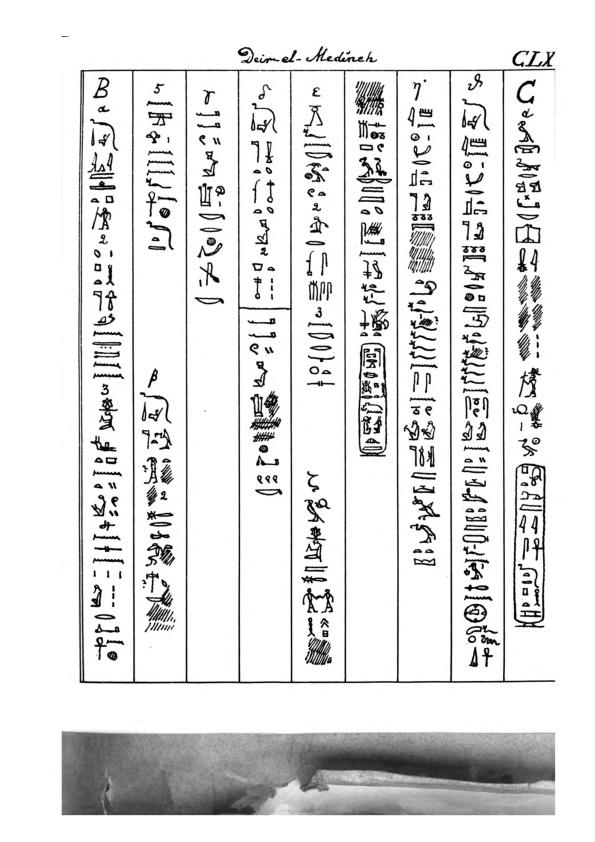circle: (511, 458, 549, 631), (356, 340, 389, 460)
